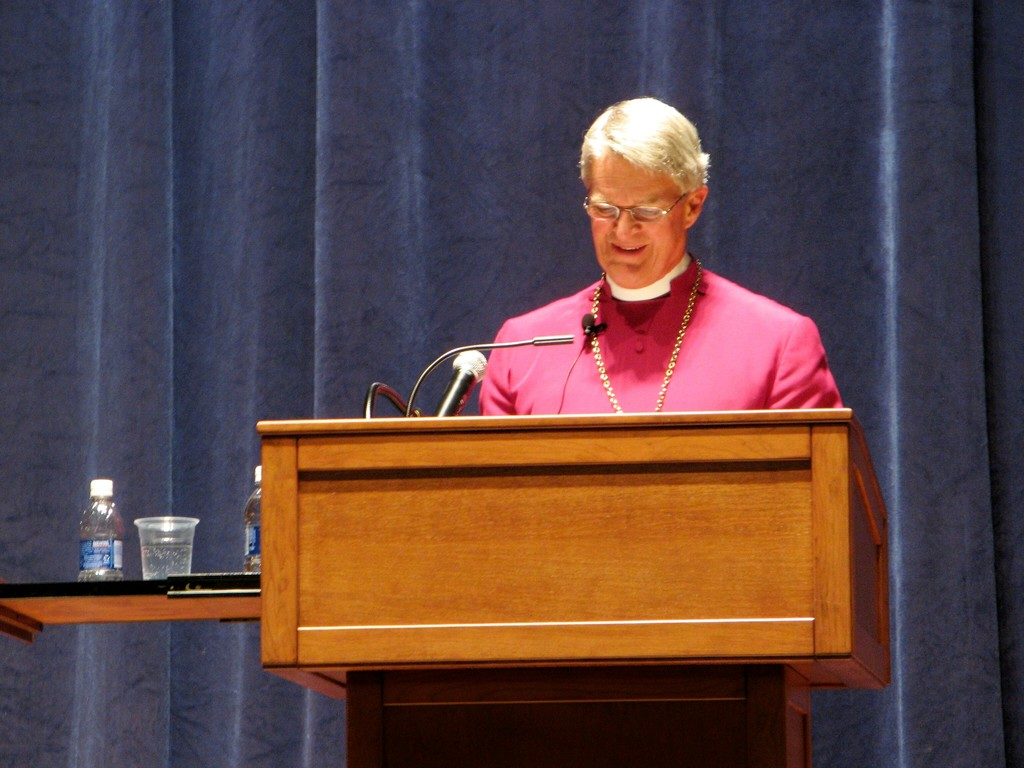Person: (477, 96, 844, 419)
